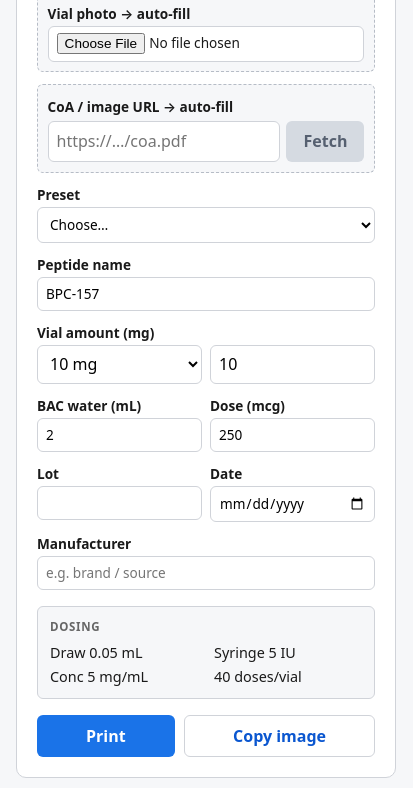
App › explains the HTTPS fallback when the image is downloaded instead
(page scrolled)
Click the button "Copy image" at point(280, 736), box [184,715,375,757]
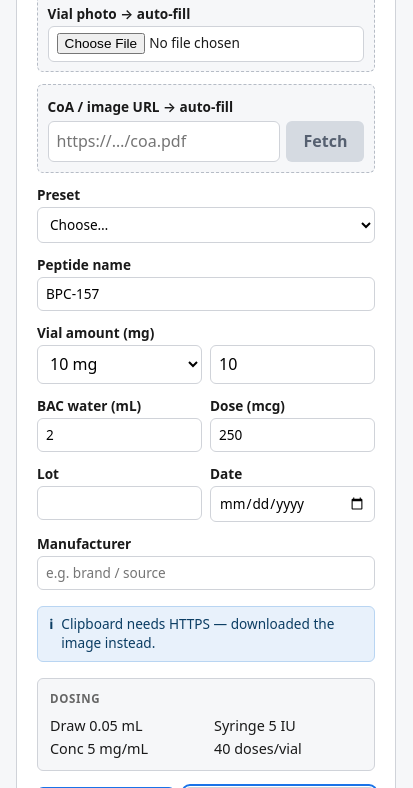
Check: the text "Clipboard needs HTTPS — downloaded the image instead." is shown, box [61,616,363,652]
